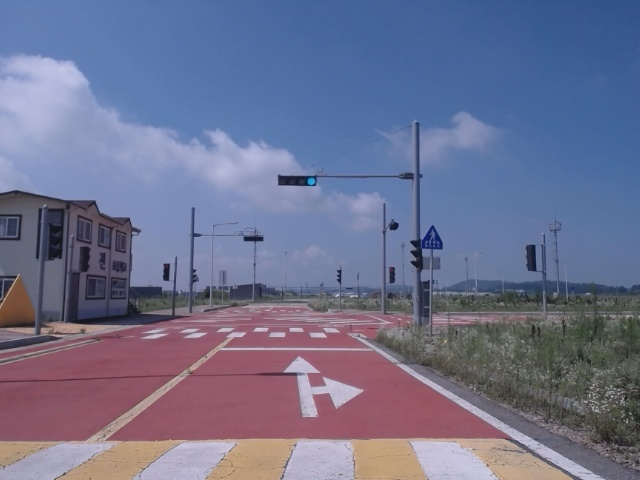straight_green_4: (278, 176, 317, 187)
